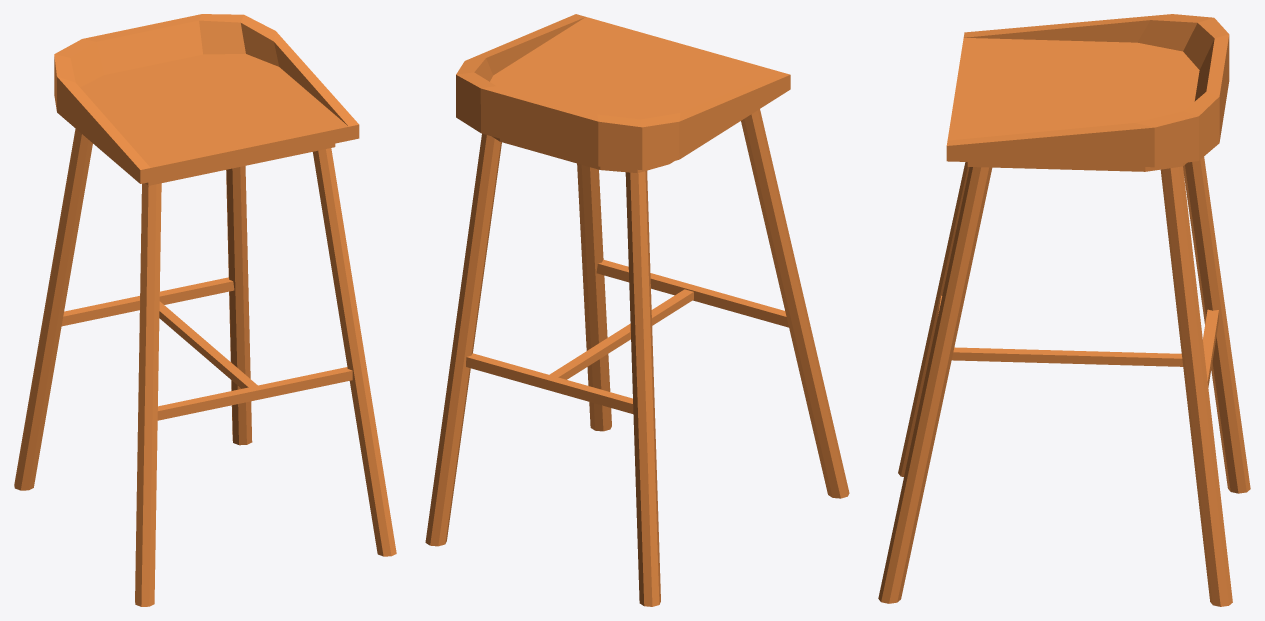
The model's file is Chair_19.fbx.
3 views of the same model, side by side, from view 1: azimuth 30°, elevation 25°; view 2: azimuth 150°, elevation 25°; view 3: azimuth 270°, elevation 25° (orthographic). The views are drawn at different scales.
Parts seen in each view (by area): view 1: Chair_19; view 2: Chair_19; view 3: Chair_19.
Part boxes in pixels (bbox=[...]): Chair_19: bbox=[14, 14, 396, 606]; Chair_19: bbox=[425, 14, 849, 606]; Chair_19: bbox=[878, 14, 1250, 606].
Bounding box in the file's own units: 46.44 × 52.81 × 75.63.
